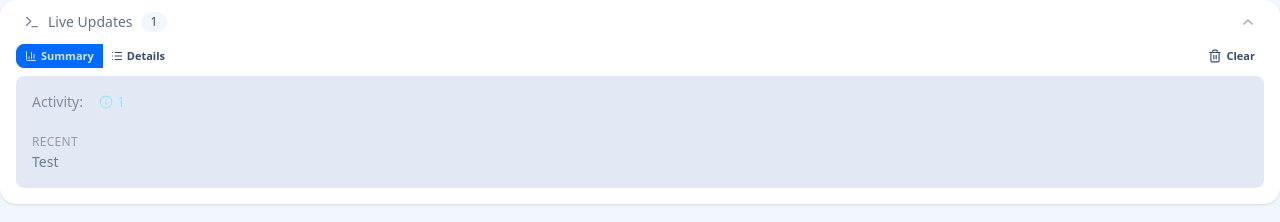
Test: AgentTerminal › formats timestamp as HH:MM:SS from ISO string in Details view
Click the button "Details" at (138, 56), box [102, 44, 174, 68]
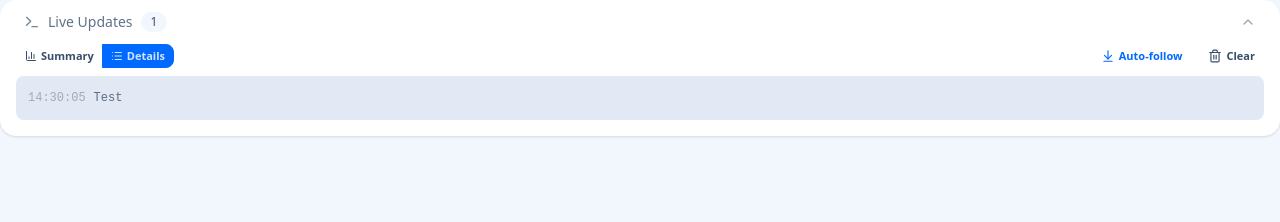
Expected: the text "14:30:05" is shown, [28, 90, 86, 106]
